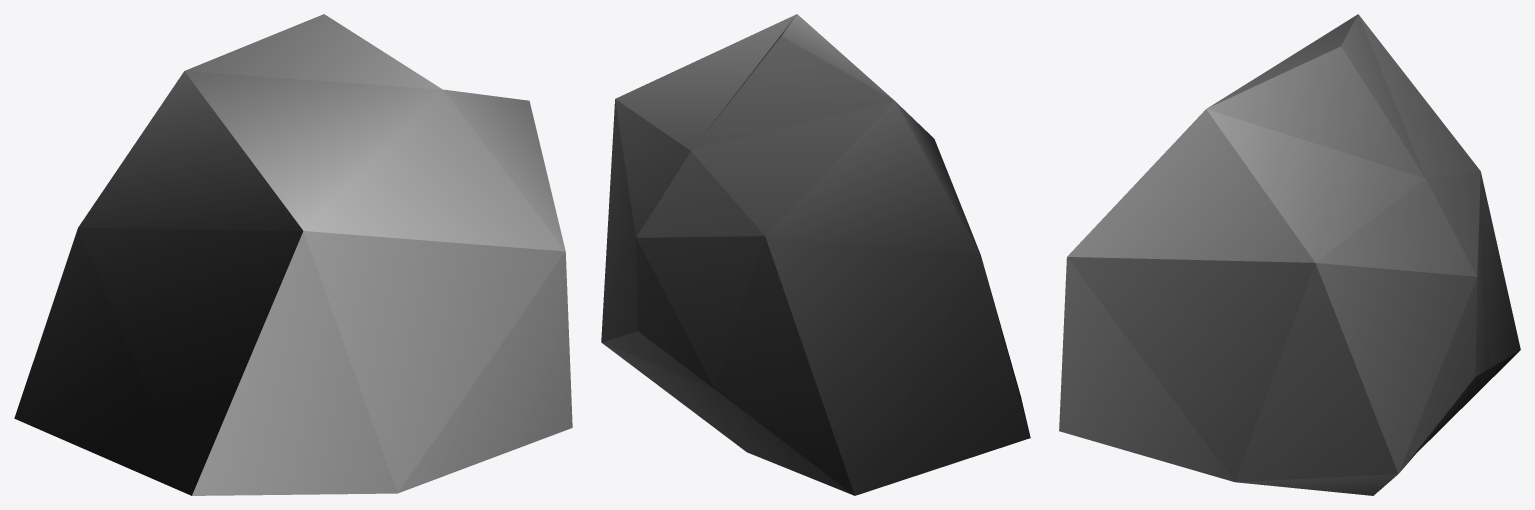
Rendered from Chunk2.FBX.
The picture shows the model from 3 angles, left to right: view 1: azimuth 30°, elevation 25°; view 2: azimuth 150°, elevation 25°; view 3: azimuth 270°, elevation 25°; orthographic projection. The views are drawn at different scales.
Visible parts, largest first — view 1: Chunk2; view 2: Chunk2; view 3: Chunk2.
Part boxes in pixels (left/top/right/bottom): Chunk2: left=14, top=14, right=572, bottom=495; Chunk2: left=601, top=14, right=1030, bottom=495; Chunk2: left=1059, top=14, right=1520, bottom=495.
Bounding box in the file's own units: 23.35 × 20.49 × 19.52.
